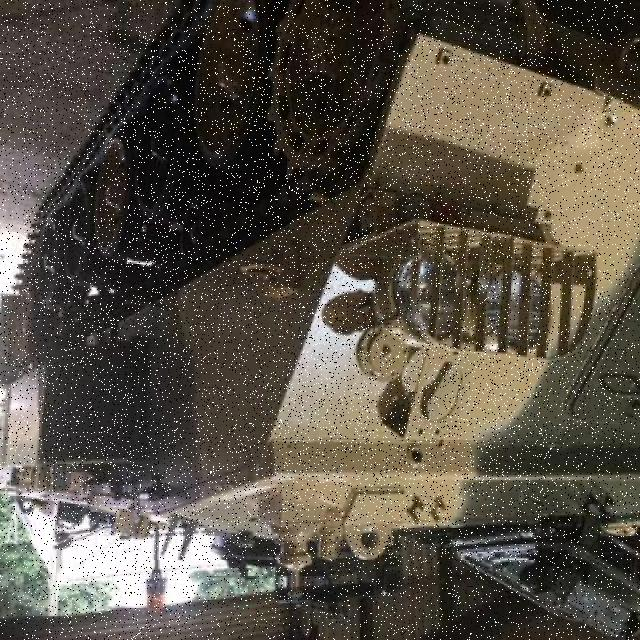MIL_MBT: (23, 29, 553, 560)
